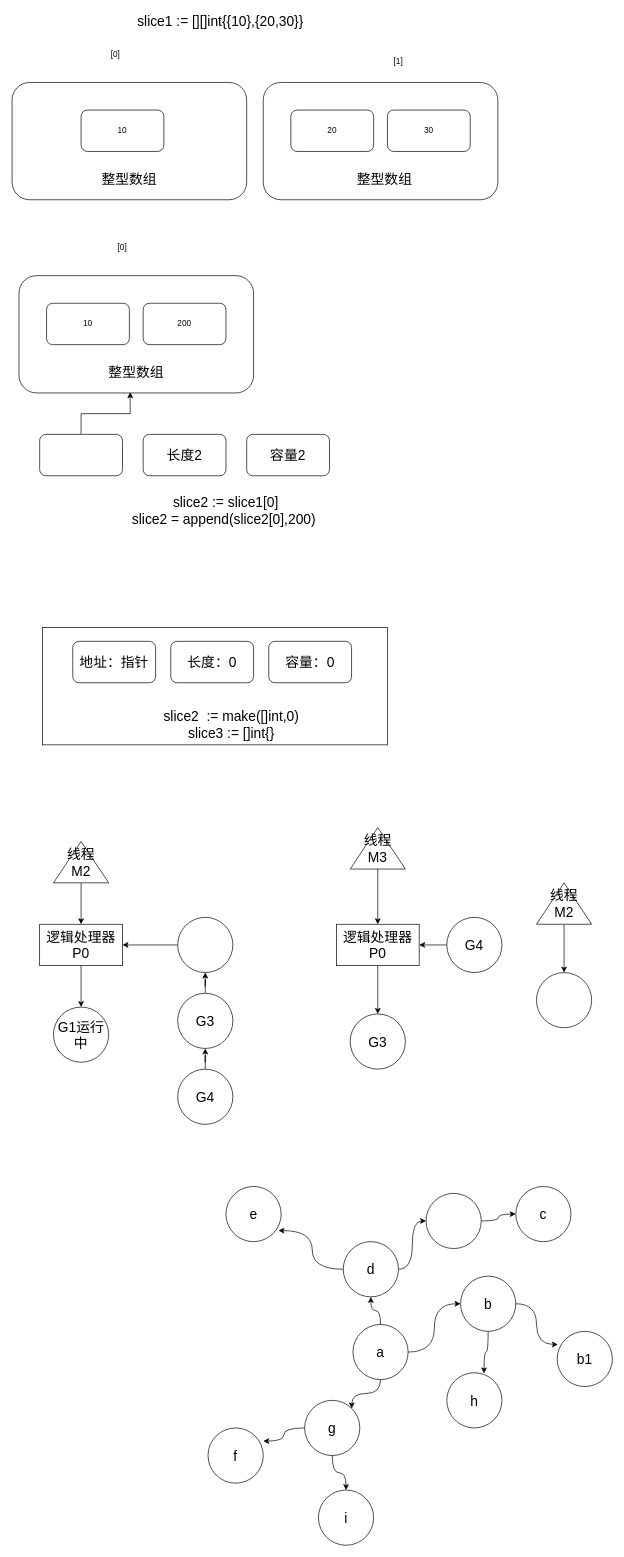
Image size: 624x1557. Some labels were removed from this diagram. The centre of each missing label's shape, as x and y in pixels:
"e1" goes at (453,1221).
"G2" goes at (205,945).
"G2阻塞中" goes at (564,1000).
"地址" goes at (80,455).
